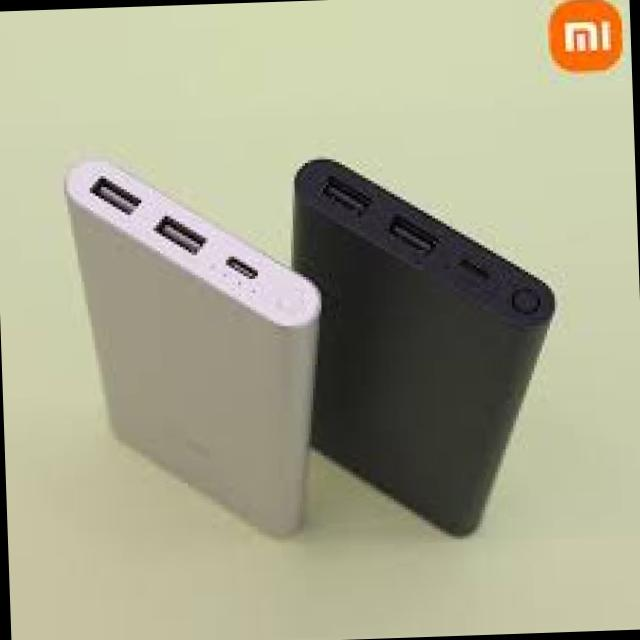power_bank: (292, 136, 572, 552), (68, 150, 332, 550)
